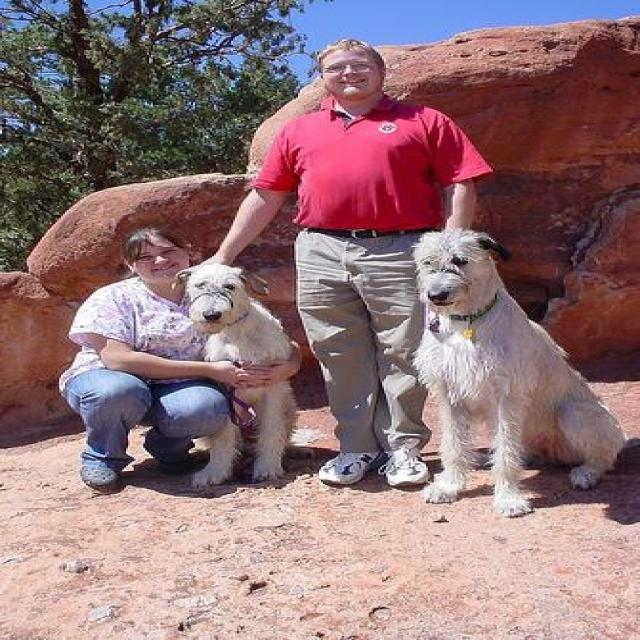irish_wolfhound: (414, 230, 624, 516), (164, 262, 302, 494)
